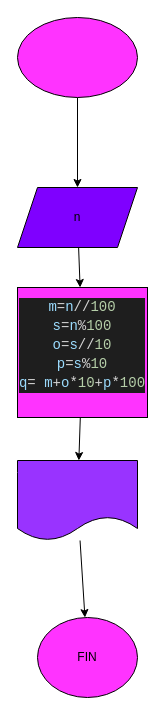
Image size: 165x715. Some labels were removed from this diagram. Each missing label, with the centre of its shape:
INICIO: point 77,57
q=ni: point 77,500
